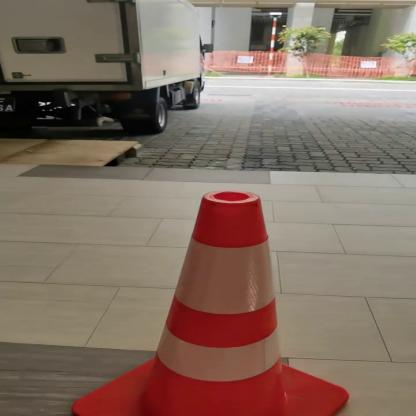cone: (67, 188, 374, 415)
